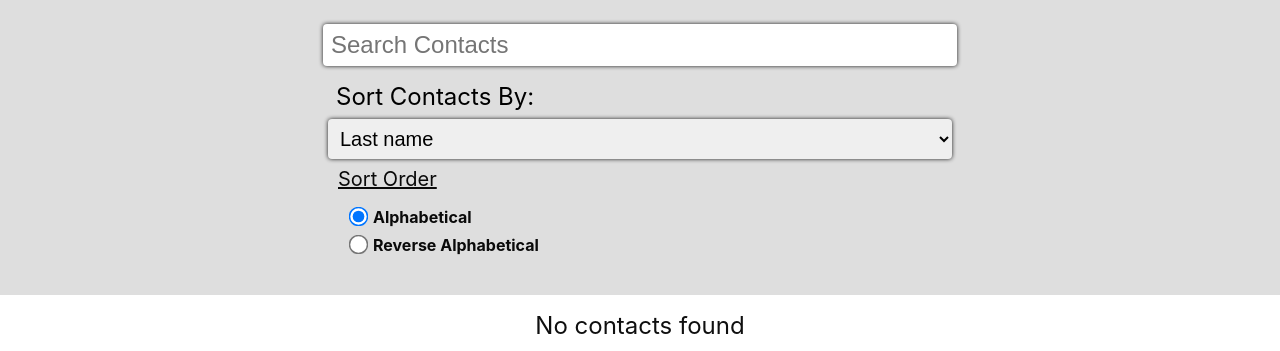
Test: Sort order gets changed
The image size is (1280, 351).
Expected: the radio button labelled "Alphabetical" is checked, [349,207,368,226]
Click the radio button labelled "Reverse Alphabetical" at (359, 245), box [349,235,368,254]
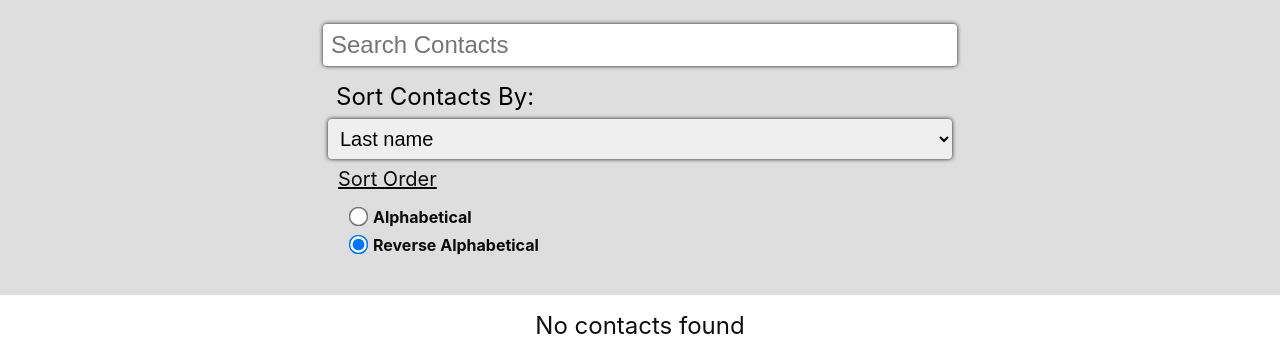
Expected: the radio button labelled "Reverse Alphabetical" is checked, [349,235,368,254]
Expected: the radio button labelled "Alphabetical" is not checked, [349,207,368,226]
